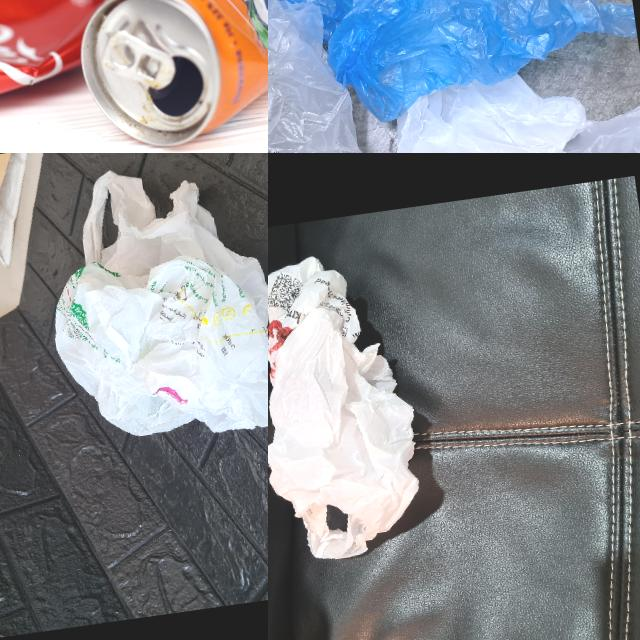aba de lata: (99, 23, 180, 98)
lata: (60, 0, 268, 153), (0, 0, 169, 153)
sacola plástica: (30, 153, 268, 458), (268, 0, 640, 137), (268, 441, 482, 637), (313, 40, 640, 153), (268, 0, 410, 153)
